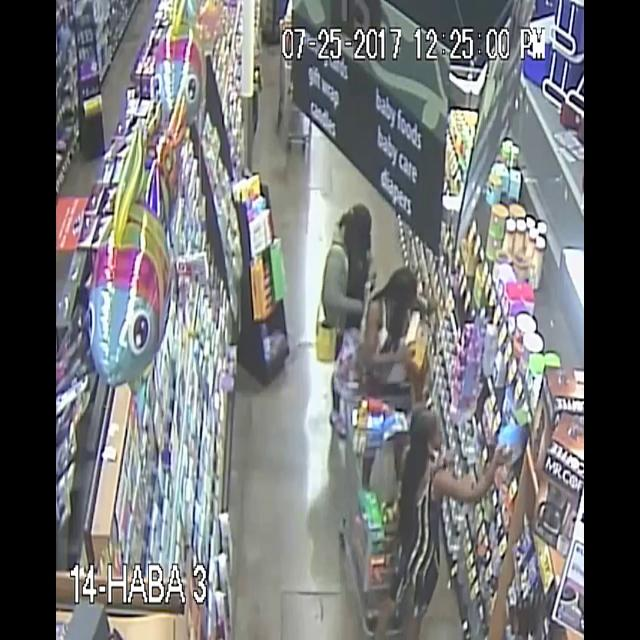Product: (405, 327, 436, 376)
normal: (370, 386, 525, 640), (332, 173, 384, 270)
shoplifting: (355, 246, 477, 406)
